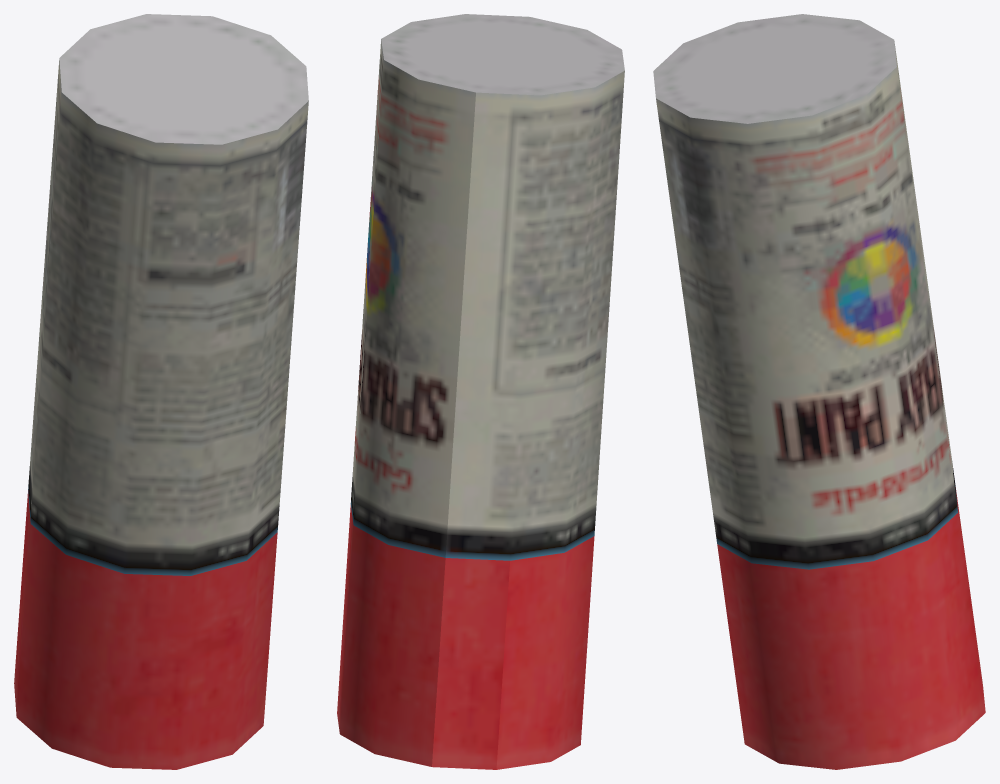
File: RedCan.fbx
The picture shows the model from 3 angles, left to right: view 1: azimuth 30°, elevation 25°; view 2: azimuth 150°, elevation 25°; view 3: azimuth 270°, elevation 25°; orthographic projection. The views are drawn at different scales.
Parts seen in each view (by area): view 1: mesh_3_67.nr; view 2: mesh_3_67.nr; view 3: mesh_3_67.nr.
Part boxes in pixels (<box>): mesh_3_67.nr: <box>14,14,308,769</box>; mesh_3_67.nr: <box>337,14,624,769</box>; mesh_3_67.nr: <box>653,14,985,769</box>.
Bounding box in the file's own units: 8.2 × 24.83 × 11.11.
